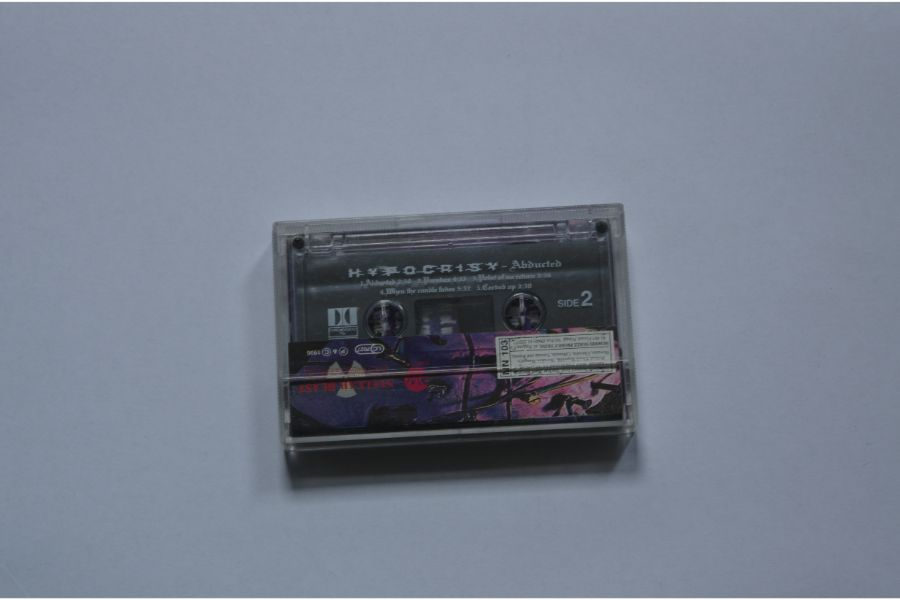album: (271, 201, 640, 441)
